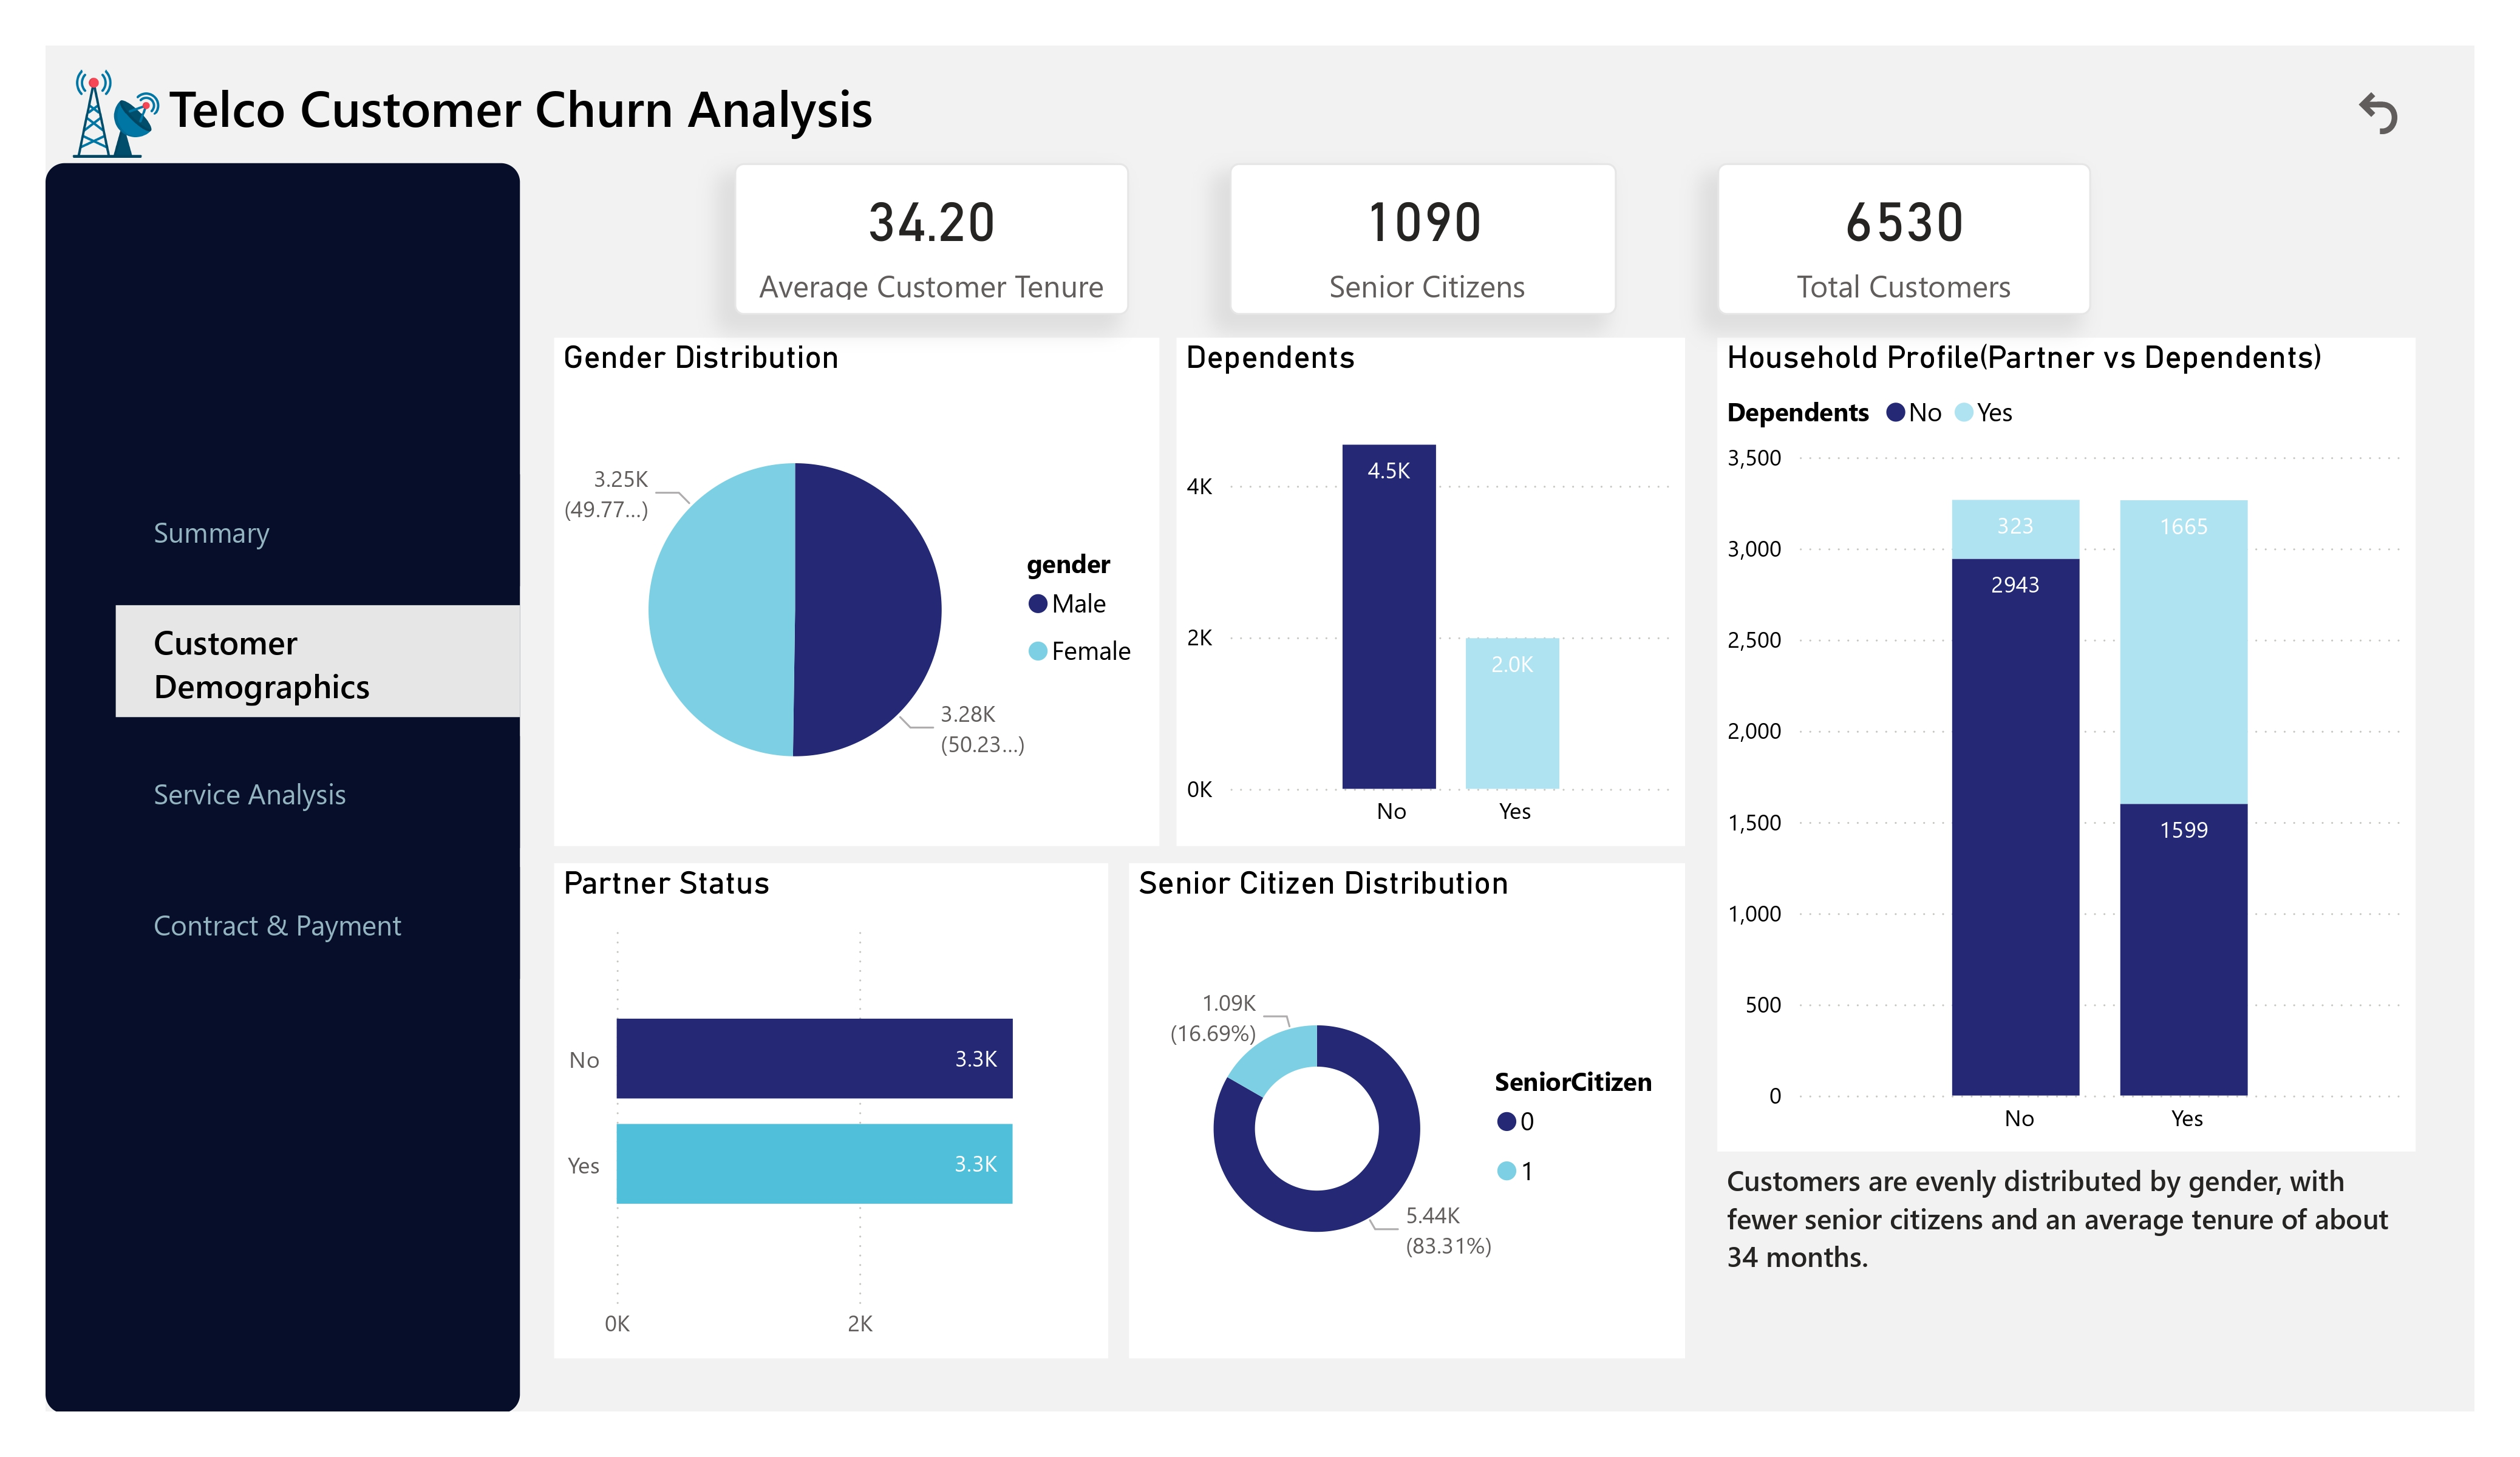

The dashboard page shown, as its layout file describes it:
{"tool":"powerbi","page":{"name":"Customer Demographics","canvas":[1280,720],"ordinal":1},"visuals":[{"type":"shape","box":[0,61.5,250,659],"z":0},{"type":"pageNavigator","box":[36.8,226.3,213.2,267.1],"z":1000},{"type":"pieChart","title":"Gender Distribution ","fields":{"Category":["Telco-Customer-Churn.gender"],"Y":["CountNonNull(Telco-Customer-Churn.customerID)"]},"box":[268.4,153.9,318.4,268.4],"z":2000},{"type":"card","fields":{"Values":["Sum(Telco-Customer-Churn.SeniorCitizen)"]},"box":[623.7,61.5,203.8,80.8],"z":3000},{"type":"card","fields":{"Values":["Avg(Telco-Customer-Churn.tenure)"]},"box":[362.8,61.5,207.7,80.8],"z":4000},{"type":"clusteredColumnChart","title":" Dependents","fields":{"Category":["Telco-Customer-Churn.Dependents"],"Y":["CountNonNull(Telco-Customer-Churn.customerID)"]},"box":[596.2,153.8,267.9,267.9],"z":5000},{"type":"columnChart","title":"Household Profile(Partner vs Dependents) ","fields":{"Series":["Telco-Customer-Churn.Dependents"],"Y":["CountNonNull(Telco-Customer-Churn.customerID)"],"Category":["Telco-Customer-Churn.Partner"]},"box":[880.8,153.8,367.9,429.5],"z":6000},{"type":"clusteredBarChart","title":"Partner Status","fields":{"Y":["CountNonNull(Telco-Customer-Churn.customerID)"],"Category":["Telco-Customer-Churn.Partner"]},"box":[267.9,430.8,292.3,261.5],"z":7000},{"type":"donutChart","title":"Senior Citizen Distribution","fields":{"Category":["Telco-Customer-Churn.SeniorCitizen"],"Y":["CountNonNull(Telco-Customer-Churn.customerID)"]},"box":[570.5,430.8,293.6,261.5],"z":8000},{"type":"textbox","box":[60.3,9,393.6,52.6],"z":9000},{"type":"image","box":[14.1,0,46.2,70.5],"z":10000},{"type":"card","fields":{"Values":["Telco-Customer-Churn.Total Customers"]},"box":[880.8,61.5,197.4,80.8],"z":11000},{"type":"textbox","box":[880.8,583.3,367.9,78.2],"z":12000},{"type":"actionButton","box":[1214.3,19.6,66,31.8],"z":13000}]}

Visuals, with their boxes on the page's 1280x720 design canvas (x1, y1, x2, y2). These are canvas units, not pixel positions in the 2520x1457 screenshot, which may show the page scaled, cropped or inside an application window:
shape: (0,62,250,720)
pageNavigator: (37,226,250,493)
"Gender Distribution " pieChart: (268,154,587,422)
card - Sum(Telco-Customer-Churn.SeniorCitizen): (624,62,828,142)
card - Avg(Telco-Customer-Churn.tenure): (363,62,570,142)
" Dependents" clusteredColumnChart: (596,154,864,422)
"Household Profile(Partner vs Dependents) " columnChart: (881,154,1249,583)
"Partner Status" clusteredBarChart: (268,431,560,692)
"Senior Citizen Distribution" donutChart: (570,431,864,692)
textbox: (60,9,454,62)
image: (14,0,60,70)
card - Telco-Customer-Churn.Total Customers: (881,62,1078,142)
textbox: (881,583,1249,662)
actionButton: (1214,20,1280,51)
